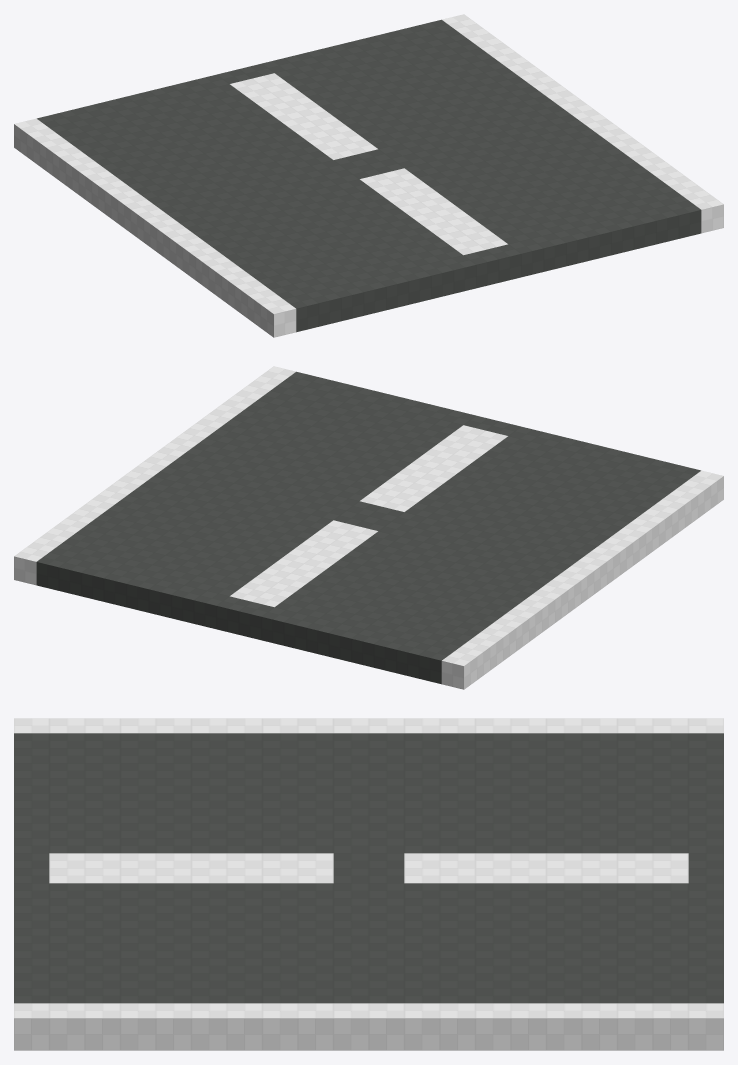
File: road.glb
3 renders of one model, top to bottom at view 1: azimuth 30°, elevation 25°; view 2: azimuth 150°, elevation 25°; view 3: azimuth 270°, elevation 25°, orthographic. The views are drawn at different scales.
Parts seen in each view (by area): view 1: _bake (×2); view 2: _bake (×2); view 3: _bake (×2).
Part boxes in pixels (x1=…): _bake (×2): x1=14, y1=14, x2=723, y2=337; _bake (×2): x1=14, y1=366, x2=723, y2=689; _bake (×2): x1=14, y1=718, x2=723, y2=1050.
Size of the model in its own units: 20 by 1 by 20.
Materials: 2 (2 with a texture image).
